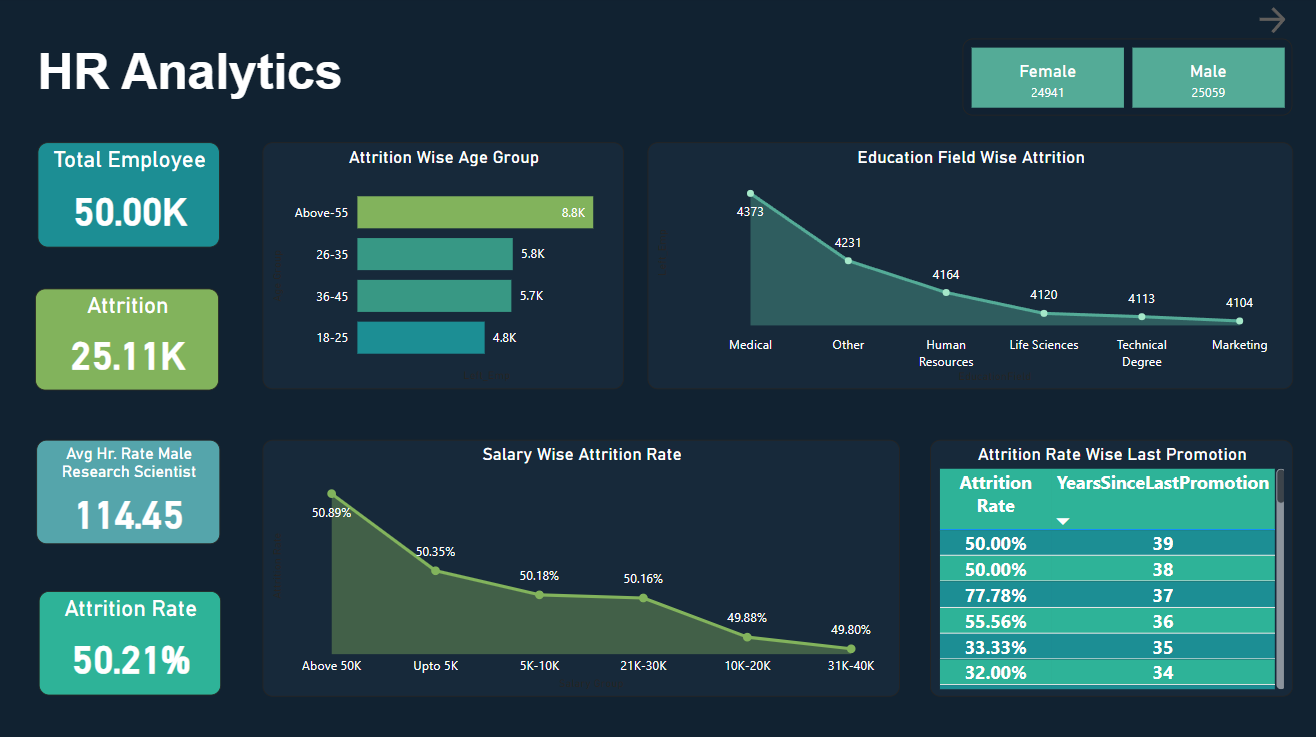

The dashboard page shown, as its layout file describes it:
{"tool":"powerbi","page":{"name":"HR-Analytics","canvas":[1280,720],"ordinal":0},"visuals":[{"type":"card","title":"Total Employee","fields":{"Values":["Count(HR-2.Employee ID)"]},"box":[41,141.1,176.1,101.3],"z":0},{"type":"card","title":"Attrition","fields":{"Values":["HR-1.Left_Emp"]},"box":[38.9,282.5,177.3,98],"z":1000},{"type":"card","title":"Attrition Rate","fields":{"Values":["HR-1.Rate"]},"box":[41.8,573.7,175.9,100.9],"z":2000},{"type":"card","title":"Avg Hr. Rate Male Research Scientist","fields":{"Values":["Avg(HR-1.HourlyRate)"]},"box":[40.4,428.1,177.3,100.9],"z":3000},{"type":"barChart","title":"Attrition Wise Age Group","fields":{"Category":["HR-1.Age Bucket"],"Y":["HR-1.Left_Emp"]},"box":[258.6,141.4,348.6,238.6],"z":4000},{"type":"areaChart","title":"Education Field Wise Attrition","fields":{"Category":["HR-1.EducationField"],"Y":["HR-1.Left_Emp"]},"box":[629.5,141.1,623.5,238.8],"z":5000},{"type":"areaChart","title":"Salary Wise Attrition Rate","fields":{"Category":["HR-2.Salary Group"],"Y":["HR-1.Rate"]},"box":[258,428.1,615.5,247.9],"z":6000},{"type":"tableEx","title":"Attrition Rate  Wise Last Promotion","fields":{"Values":["HR-1.Rate","HR-2.YearsSinceLastPromotion"]},"box":[902.3,428.1,350.3,247.9],"z":7000},{"type":"textbox","box":[19.3,41,337.7,66.3],"z":9000},{"type":"advancedSlicerVisual","fields":{"Values":["HR-1.Gender"]},"box":[934.3,41.4,318.6,74.3],"z":10000},{"type":"actionButton","box":[1215.1,5.8,36,34.6],"z":11000}]}

Visuals, with their boxes in screenshot pixels (x1, y1, x2, y2), scaled from the page's 1280x720 canvas onto the 1316x737 screenshot:
"Total Employee" card: box=[42, 144, 223, 248]
"Attrition" card: box=[40, 289, 222, 389]
"Attrition Rate" card: box=[43, 587, 224, 691]
"Avg Hr. Rate Male Research Scientist" card: box=[42, 438, 224, 541]
"Attrition Wise Age Group" barChart: box=[266, 145, 624, 389]
"Education Field Wise Attrition" areaChart: box=[647, 144, 1288, 389]
"Salary Wise Attrition Rate" areaChart: box=[265, 438, 898, 692]
"Attrition Rate  Wise Last Promotion" tableEx: box=[928, 438, 1288, 692]
textbox: box=[20, 42, 367, 110]
advancedSlicerVisual - HR-1.Gender: box=[961, 42, 1288, 118]
actionButton: box=[1249, 6, 1286, 41]
